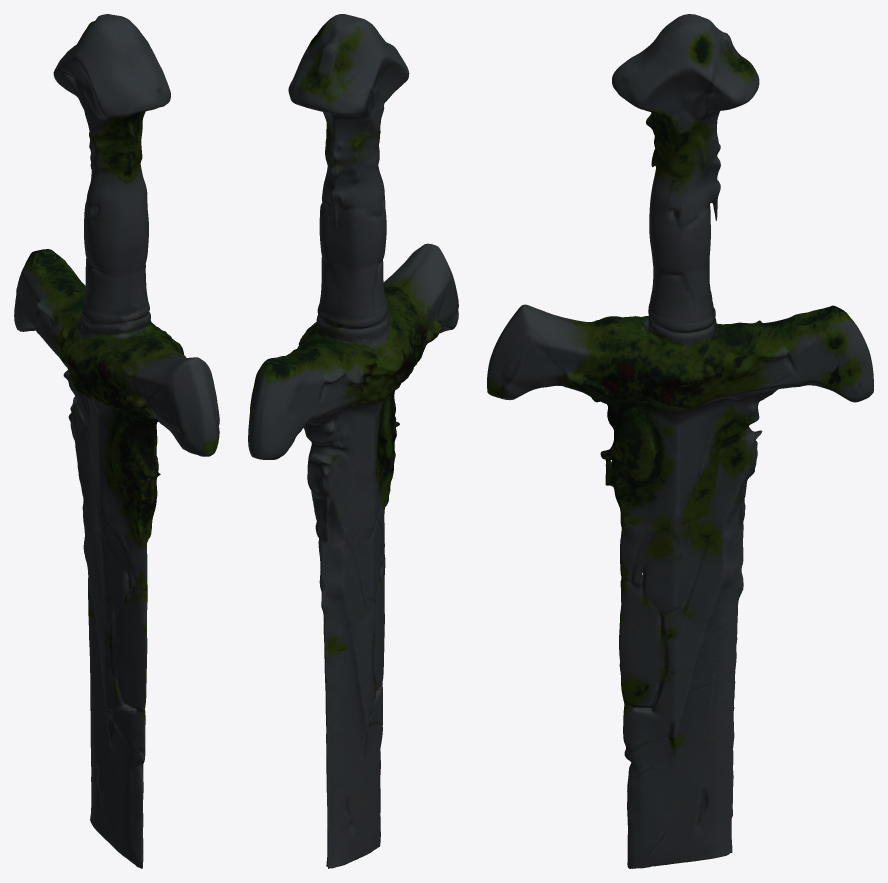
Rendered from BigSword.fbx.
The picture shows the model from 3 angles, left to right: view 1: azimuth 30°, elevation 25°; view 2: azimuth 150°, elevation 25°; view 3: azimuth 270°, elevation 25°; orthographic projection. The views are drawn at different scales.
Parts seen in each view (by area): view 1: tripo_node_3c6ff6e7; view 2: tripo_node_3c6ff6e7; view 3: tripo_node_3c6ff6e7.
Part boxes in pixels (bbox=[...]): tripo_node_3c6ff6e7: bbox=[14, 14, 219, 868]; tripo_node_3c6ff6e7: bbox=[248, 14, 458, 868]; tripo_node_3c6ff6e7: bbox=[487, 14, 873, 868].
Bounding box in the file's own units: 0.1244 × 0.9996 × 0.4129.
1 material, 1 textured.
